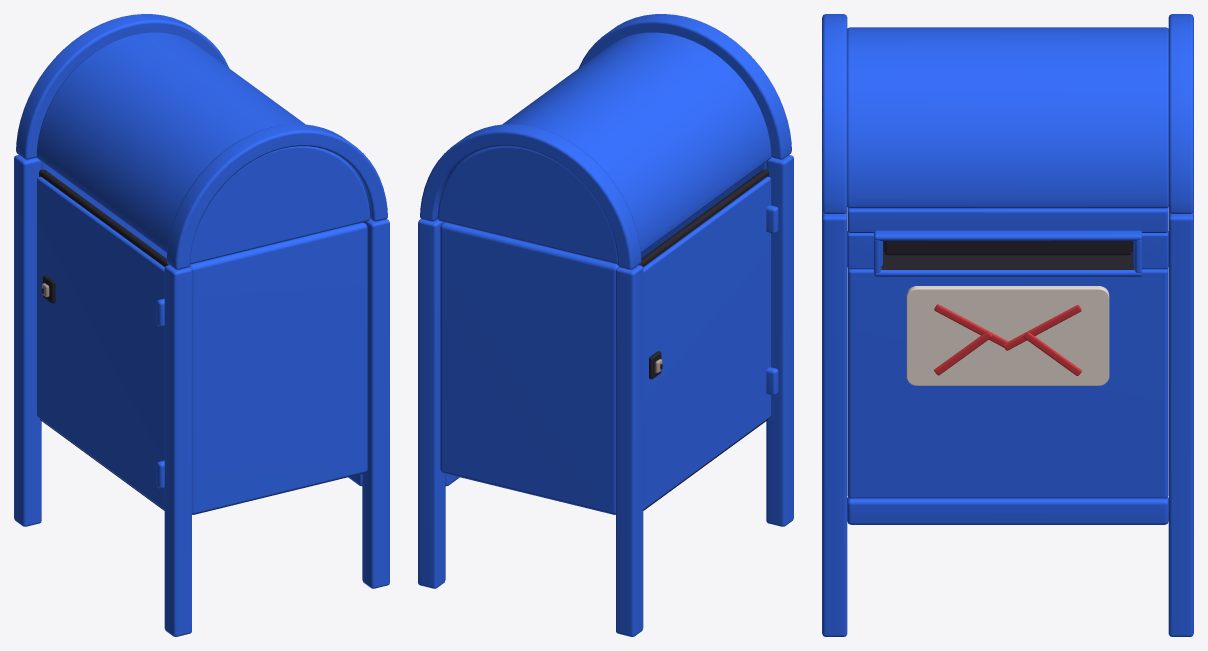
The picture shows the model from 3 angles, left to right: view 1: azimuth 30°, elevation 25°; view 2: azimuth 150°, elevation 25°; view 3: azimuth 270°, elevation 25°; orthographic projection. The views are drawn at different scales.
Visible parts, largest first — view 1: body_pal_policeBlue, door_collection_pal_policeBlue, body_pal_uiDark; view 2: body_pal_policeBlue, door_collection_pal_policeBlue, body_pal_uiDark; view 3: body_pal_policeBlue, body_pal_picketWhite, body_pal_uiDark, mail_flap_pal_uiDark, body_pal_survivorRed.
Boxes of the visible parts, bbox=[...] form: body_pal_policeBlue: bbox=[14, 14, 389, 636]; door_collection_pal_policeBlue: bbox=[36, 176, 164, 509]; body_pal_uiDark: bbox=[39, 169, 168, 510]; body_pal_policeBlue: bbox=[418, 14, 793, 636]; door_collection_pal_policeBlue: bbox=[643, 176, 778, 509]; body_pal_uiDark: bbox=[639, 169, 768, 510]; body_pal_policeBlue: bbox=[822, 14, 1193, 636]; body_pal_picketWhite: bbox=[906, 286, 1109, 385]; body_pal_uiDark: bbox=[847, 241, 1168, 269]; mail_flap_pal_uiDark: bbox=[885, 241, 1130, 255]; body_pal_survivorRed: bbox=[934, 304, 1081, 375].
Bounding box in the file's own units: 0.739 × 1.54 × 0.942.
